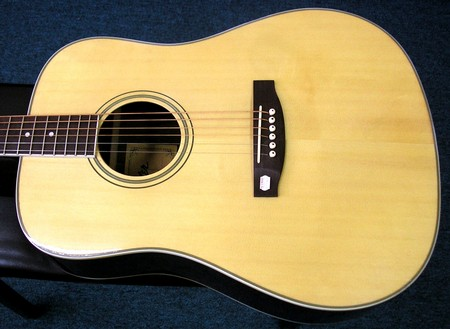guitar: (1, 5, 442, 318)
